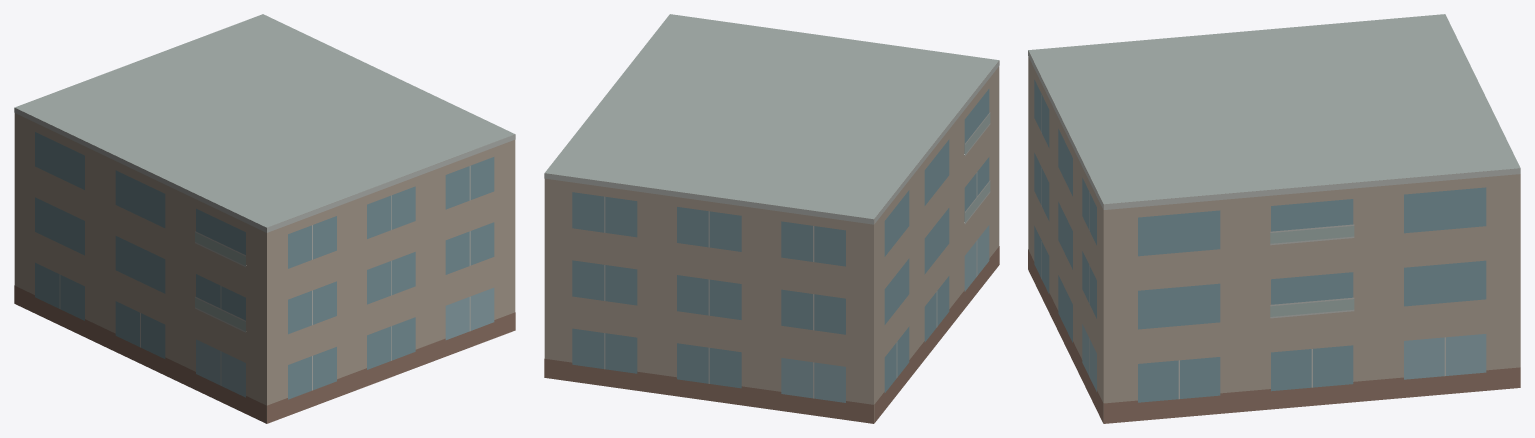
Rendered from survey-upis-32699907.glb.
3 views of the same model, side by side, from view 1: azimuth 30°, elevation 25°; view 2: azimuth 150°, elevation 25°; view 3: azimuth 270°, elevation 25° (orthographic). The views are drawn at different scales.
Visible parts, largest first — view 1: survey-upis-32699907.tmp; view 2: survey-upis-32699907.tmp; view 3: survey-upis-32699907.tmp.
Part boxes in pixels (x1,y1,x2,y2): survey-upis-32699907.tmp: [14, 14, 515, 423]; survey-upis-32699907.tmp: [544, 14, 999, 423]; survey-upis-32699907.tmp: [1028, 14, 1520, 423].
Size of the model in its own units: 17.01 by 9.15 by 18.61.
